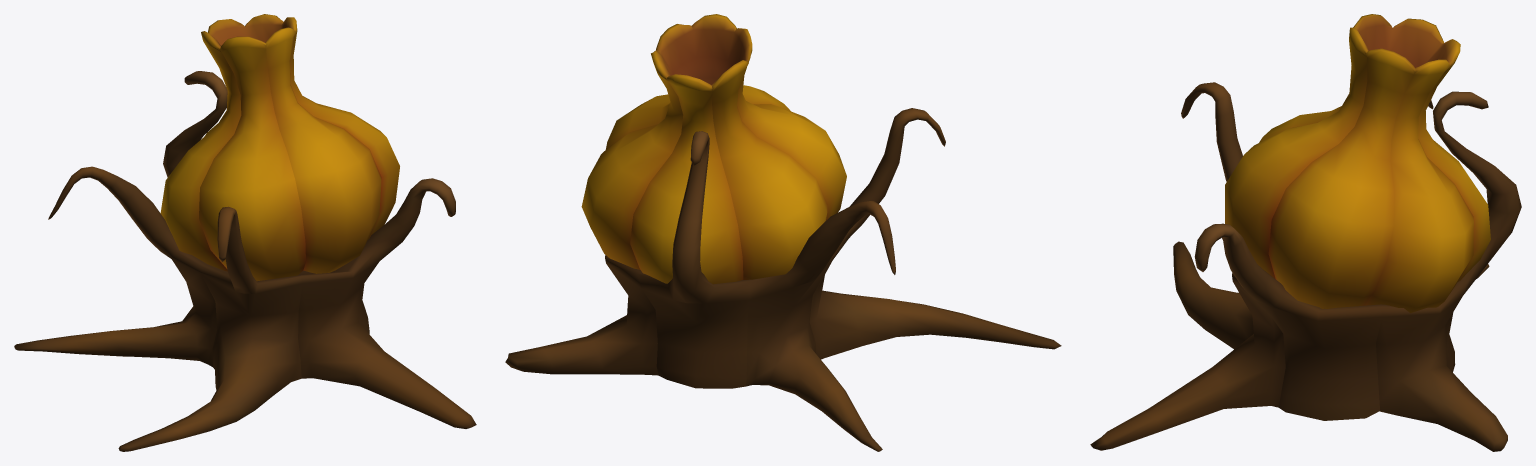
Rendered from Plant_26.fbx.
3 views of the same model, side by side, from view 1: azimuth 30°, elevation 25°; view 2: azimuth 150°, elevation 25°; view 3: azimuth 270°, elevation 25° (orthographic). The views are drawn at different scales.
Visible parts, largest first — view 1: Plant_26; view 2: Plant_26; view 3: Plant_26.
Part boxes in pixels (x1,y1,x2,y2): Plant_26: (14, 14, 476, 451); Plant_26: (505, 14, 1061, 451); Plant_26: (1090, 14, 1521, 451).
Size of the model in its own units: 4.56 by 3.91 by 4.04.
